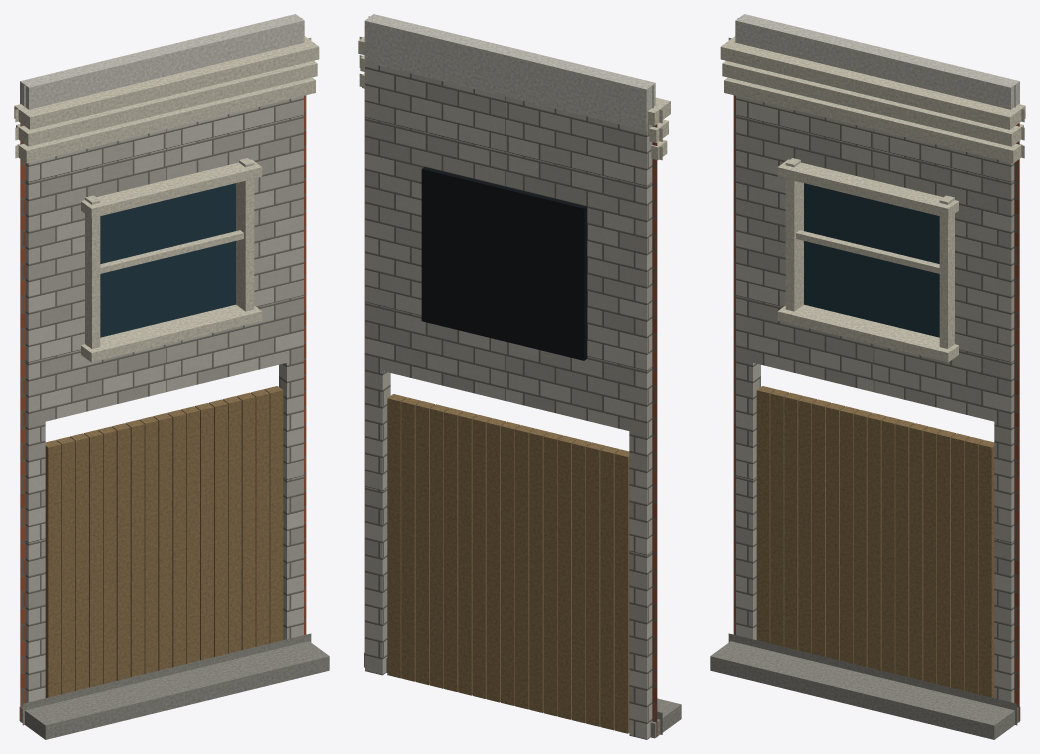
Rendered from WHSE12_lod2.glb.
The picture shows the model from 3 angles, left to right: view 1: azimuth 30°, elevation 25°; view 2: azimuth 150°, elevation 25°; view 3: azimuth 330°, elevation 25°; orthographic projection. The views are drawn at different scales.
Visible parts, largest first — view 1: WHSE12_FRONT_LOD2; view 2: WHSE12_FRONT_LOD2; view 3: WHSE12_FRONT_LOD2.
Part boxes in pixels (x1,y1,x2,y2): WHSE12_FRONT_LOD2: [14, 14, 329, 739]; WHSE12_FRONT_LOD2: [358, 14, 681, 739]; WHSE12_FRONT_LOD2: [710, 14, 1025, 739].
Bounding box in the file's own units: 3.44 × 7.05 × 0.65.
Materials: 9 (7 with a texture image).
